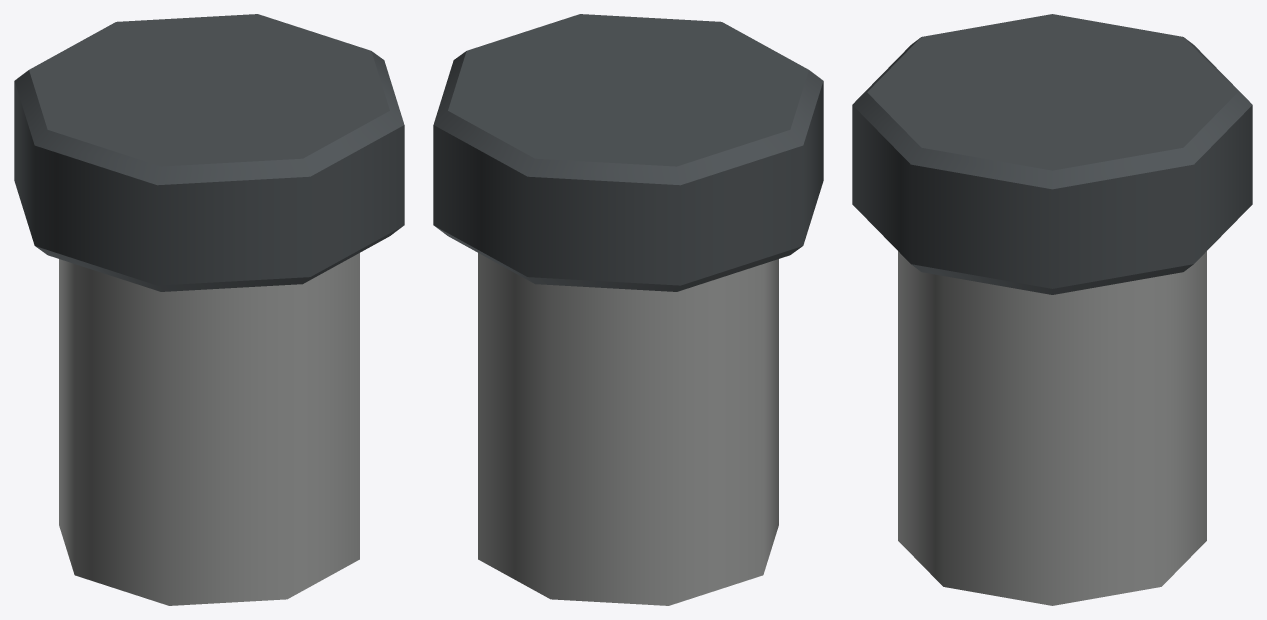
File: SM_Prop_ClimbingFrame_02.obj
The picture shows the model from 3 angles, left to right: view 1: azimuth 30°, elevation 25°; view 2: azimuth 150°, elevation 25°; view 3: azimuth 270°, elevation 25°; orthographic projection.
Parts seen in each view (by area): view 1: SM_Prop_ClimbingFrame_02_Mat_SwatchOverlay_PolygonTown_01_WoodRo, SM_Prop_ClimbingFrame_02_Mat_SwatchOverlay_PolygonTown_01_Inst; view 2: SM_Prop_ClimbingFrame_02_Mat_SwatchOverlay_PolygonTown_01_WoodRo, SM_Prop_ClimbingFrame_02_Mat_SwatchOverlay_PolygonTown_01_Inst; view 3: SM_Prop_ClimbingFrame_02_Mat_SwatchOverlay_PolygonTown_01_WoodRo, SM_Prop_ClimbingFrame_02_Mat_SwatchOverlay_PolygonTown_01_Inst.
Boxes of the visible parts, <box> form: SM_Prop_ClimbingFrame_02_Mat_SwatchOverlay_PolygonTown_01_WoodRo: <box>59,253,359,605</box>; SM_Prop_ClimbingFrame_02_Mat_SwatchOverlay_PolygonTown_01_Inst: <box>14,14,404,291</box>; SM_Prop_ClimbingFrame_02_Mat_SwatchOverlay_PolygonTown_01_WoodRo: <box>478,253,778,605</box>; SM_Prop_ClimbingFrame_02_Mat_SwatchOverlay_PolygonTown_01_Inst: <box>433,14,823,291</box>; SM_Prop_ClimbingFrame_02_Mat_SwatchOverlay_PolygonTown_01_WoodRo: <box>898,251,1206,605</box>; SM_Prop_ClimbingFrame_02_Mat_SwatchOverlay_PolygonTown_01_Inst: <box>852,14,1252,294</box>.
Size of the model in its own units: 0.7 by 0.8649 by 0.7.
2 materials, 2 textured.
